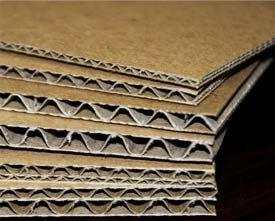paper: (0, 0, 274, 219)
